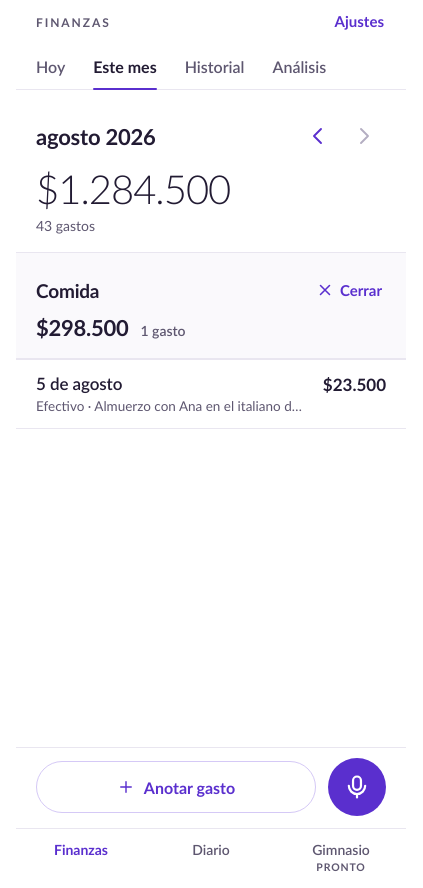
Test: requirement 18 — one category at a time › clears the selection from the on-screen control (18.5)
What coordinates should you click on to do the following:
click the button "Cerrar"
I would click on:
 (349, 290)
Its box is [312,268,386,312].
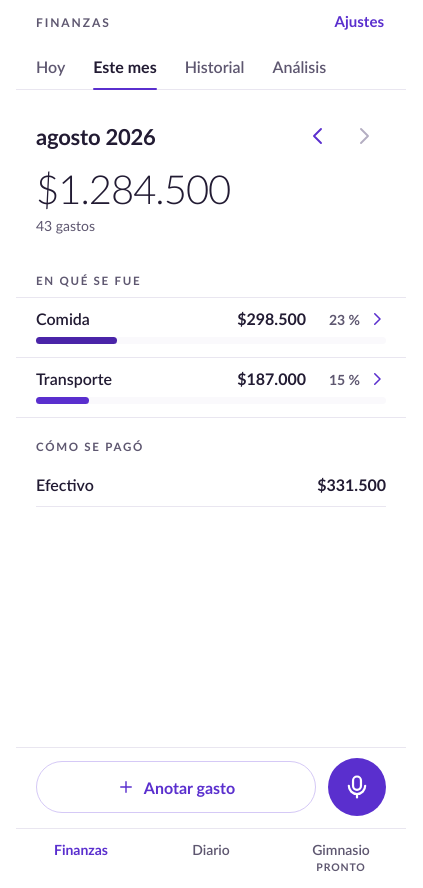
expect the text "En qué se fue" is shown: met, box [36,274,141,287]
expect the text "Cómo se pagó" is shown: met, box [36,440,144,453]
